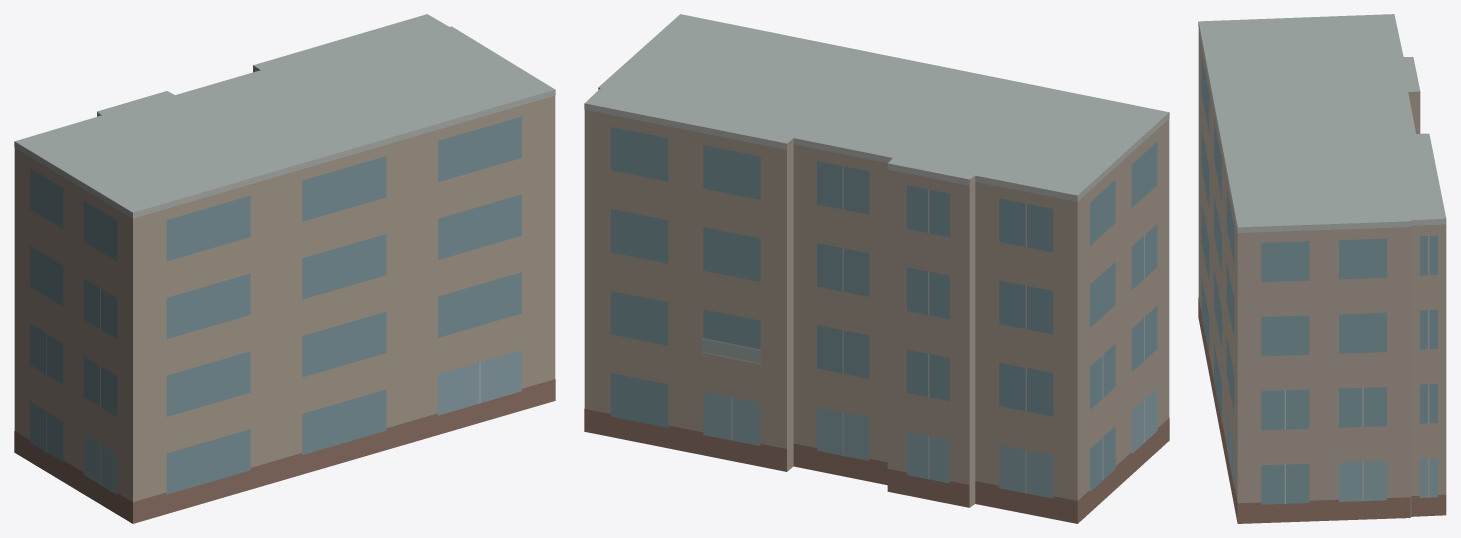
The model's file is survey-upis-32636504.glb.
The picture shows the model from 3 angles, left to right: view 1: azimuth 30°, elevation 25°; view 2: azimuth 150°, elevation 25°; view 3: azimuth 270°, elevation 25°; orthographic projection. The views are drawn at different scales.
Parts seen in each view (by area): view 1: survey-upis-32636504.tmp; view 2: survey-upis-32636504.tmp; view 3: survey-upis-32636504.tmp.
Boxes of the visible parts, x1,y1,x2,y2 form: survey-upis-32636504.tmp: [14, 14, 555, 523]; survey-upis-32636504.tmp: [584, 14, 1169, 523]; survey-upis-32636504.tmp: [1198, 14, 1446, 523].
Size of the model in its own units: 19.76 by 12.8 by 9.7.
